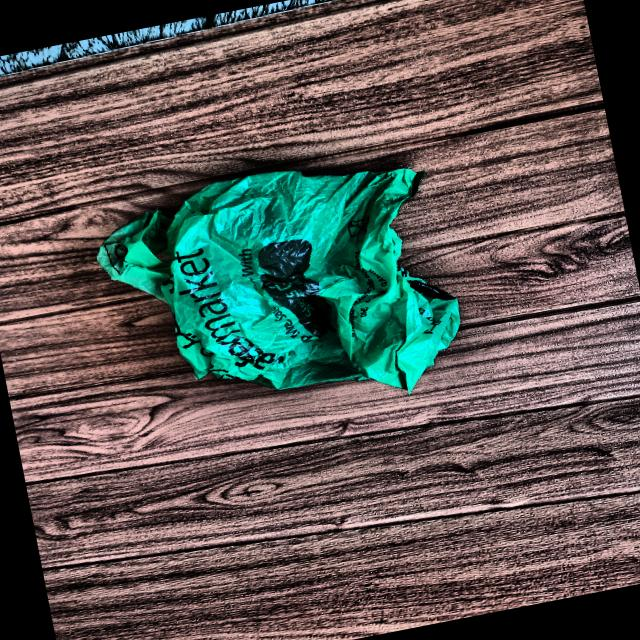plastic bag: (82, 138, 481, 453)
